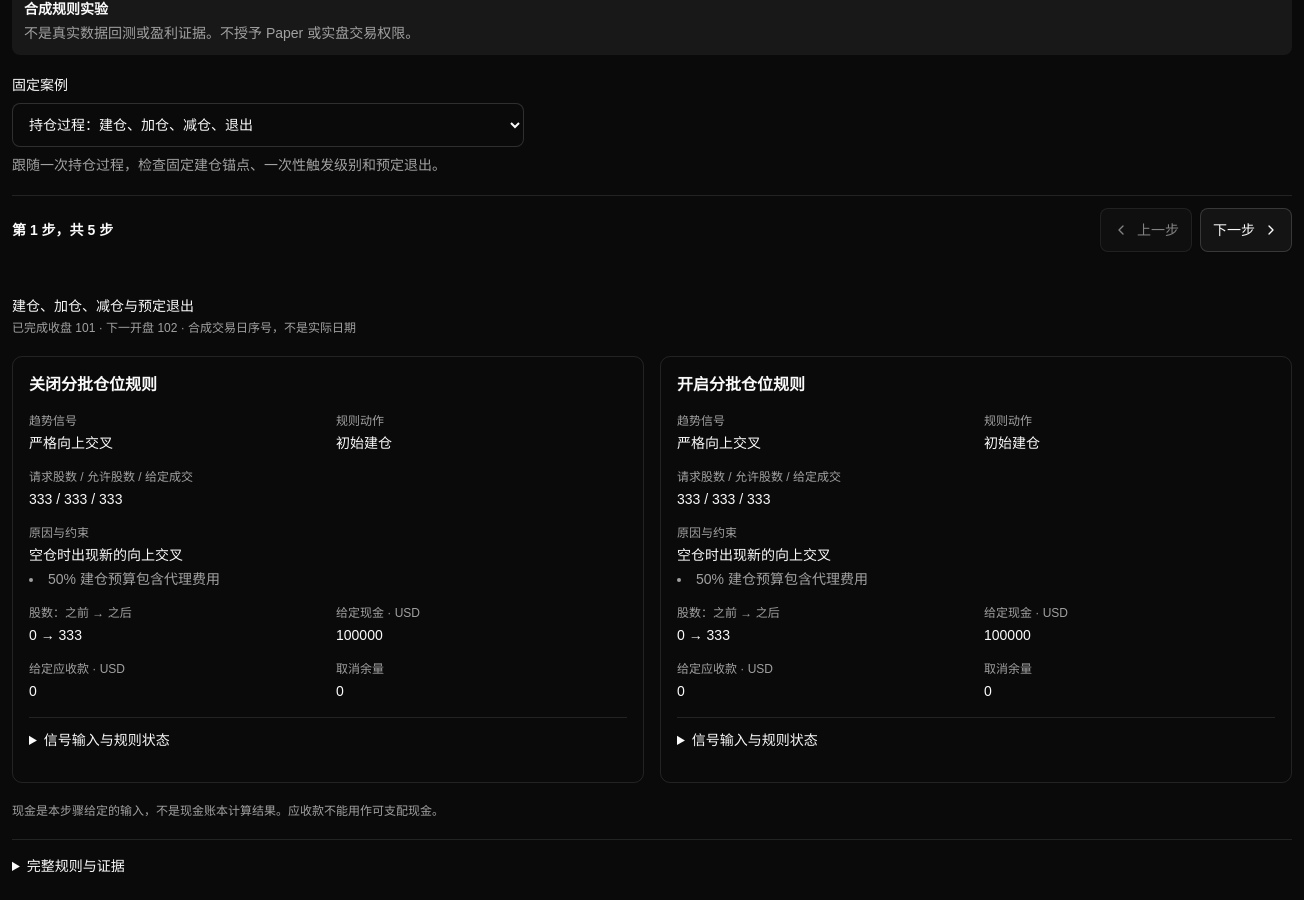
Scenario: fixed synthetic trend step inspector › localizes the core operation and discloses complete original evidence on request
(page scrolled)
Expected: the heading "开启分批仓位规则" is shown, x1=677 y1=376 x2=805 y2=393
Expected: the text "合成规则实验" is shown, x1=24 y1=1 x2=108 y2=17
Click the heading "完整规则与证据".
click(76, 866)  # box x1=27 y1=858 x2=125 y2=874
(page scrolled)
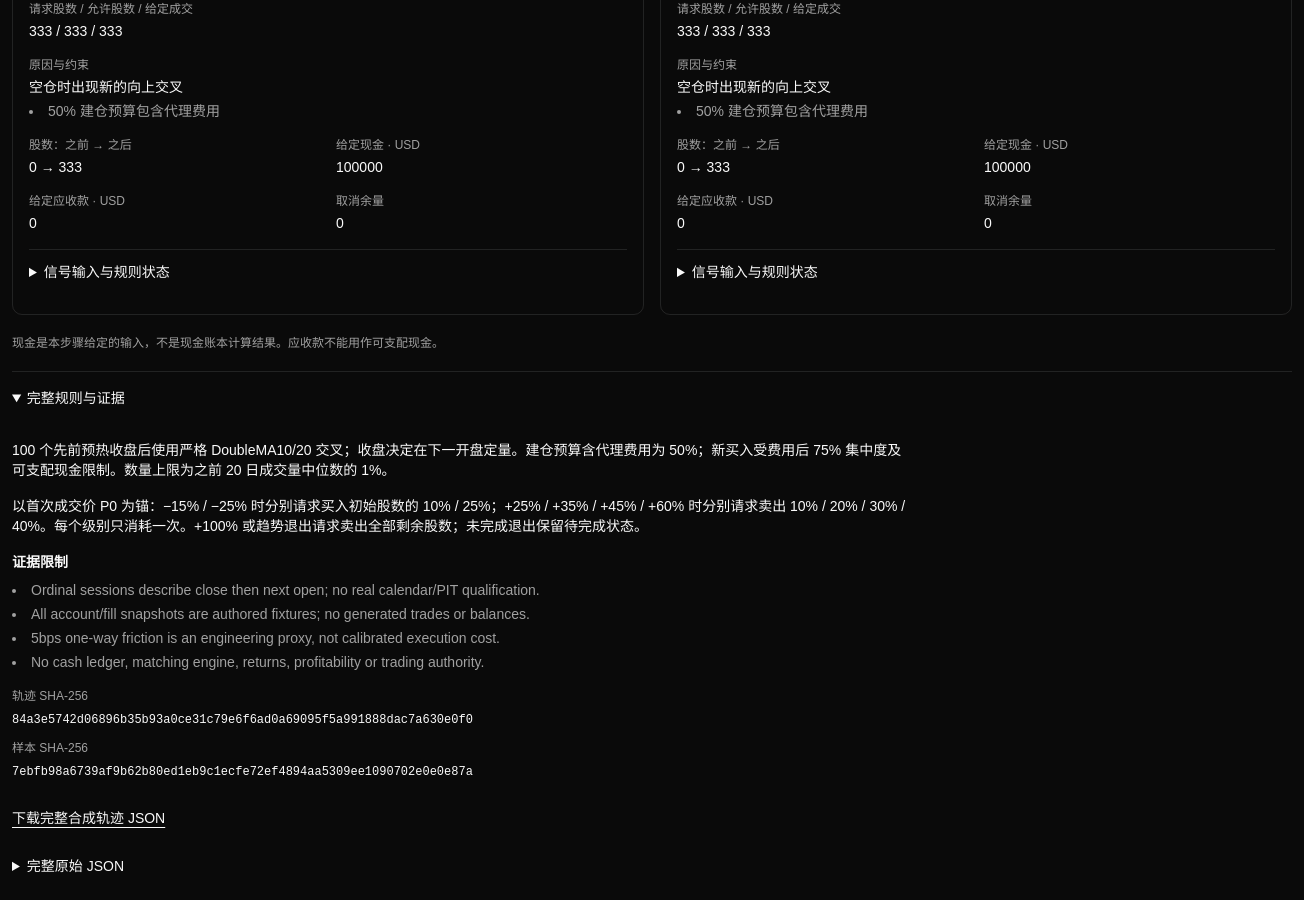
Result: the text "84a3e5742d06896b35b93a0ce31c79e6f6ad0a69095f5a991888dac7a630e0f0" is shown at x1=12 y1=713 x2=473 y2=727
